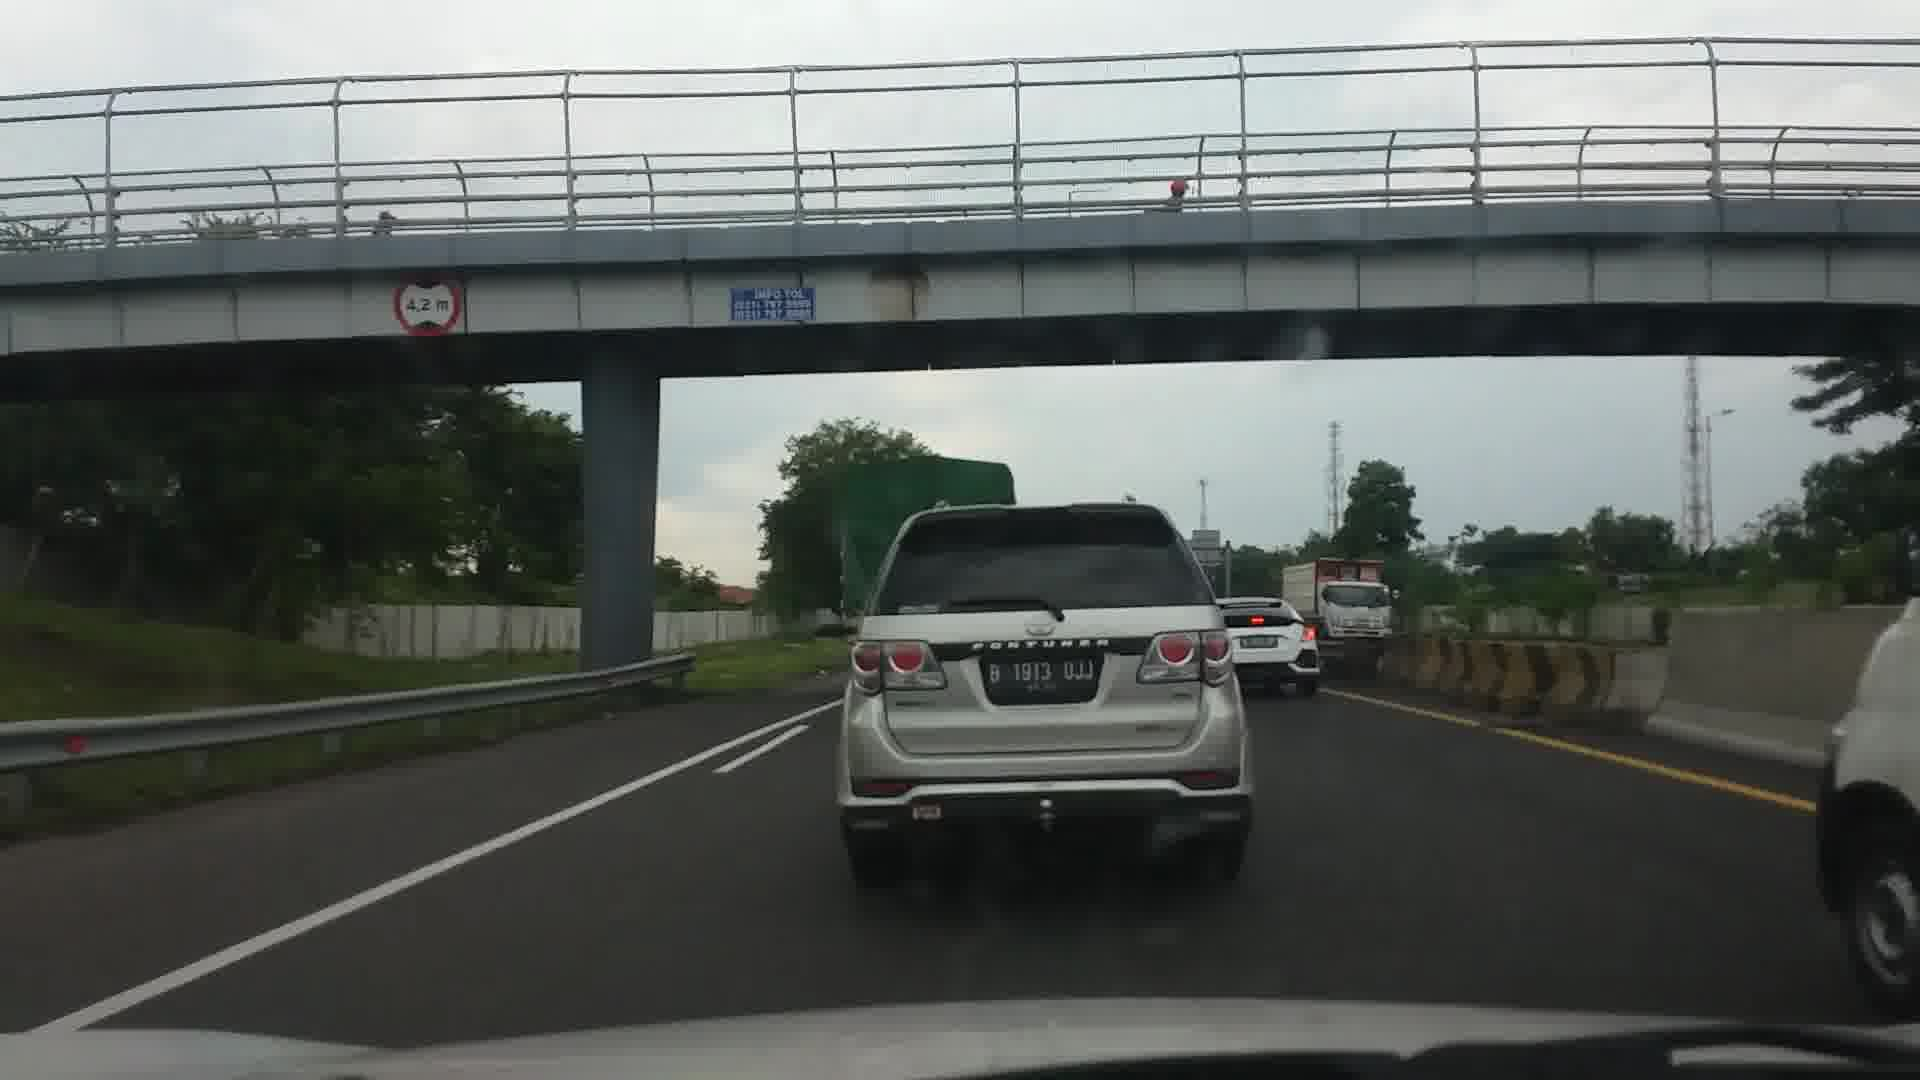plate_positive: (985, 659, 1097, 694)
